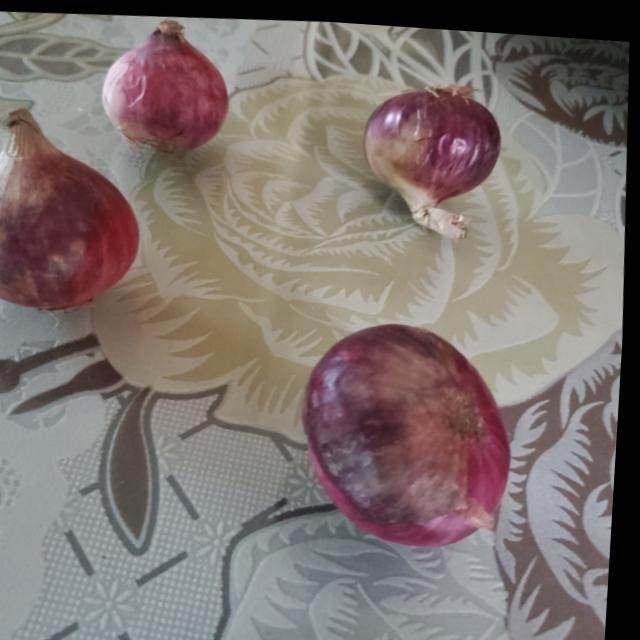onion: (299, 313, 523, 550), (0, 100, 150, 310), (358, 74, 503, 209), (102, 12, 237, 153)
